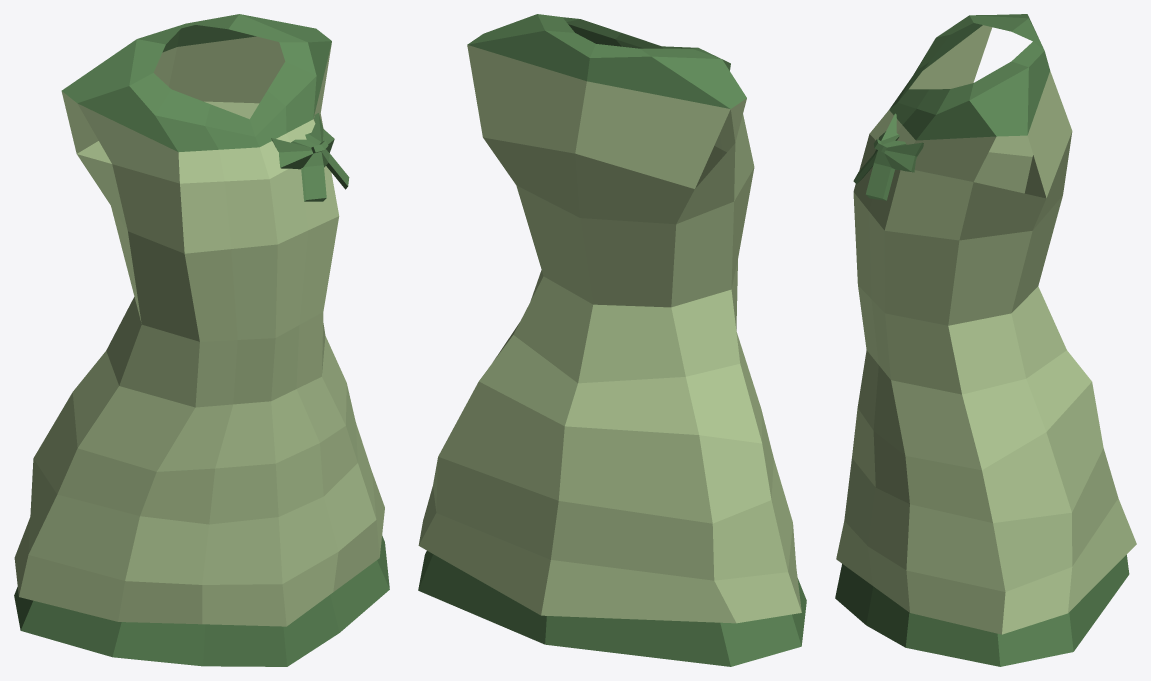
File: LongTop.fbx
3 renders of one model, left to right at view 1: azimuth 30°, elevation 25°; view 2: azimuth 150°, elevation 25°; view 3: azimuth 270°, elevation 25°, orthographic. The views are drawn at different scales.
Parts seen in each view (by area): view 1: LongTop.001; view 2: LongTop.001; view 3: LongTop.001.
Boxes of the visible parts, box(x1,y1,x2,y2) form: LongTop.001: box(14, 14, 389, 666); LongTop.001: box(418, 14, 806, 666); LongTop.001: box(835, 14, 1136, 666).
Size of the model in its own units: 109 by 161 by 79.25.
